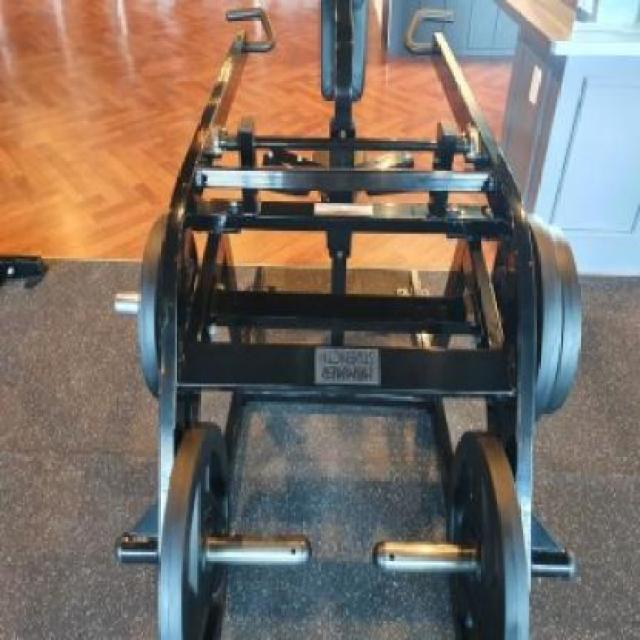seated dip machine: (119, 4, 575, 640)
